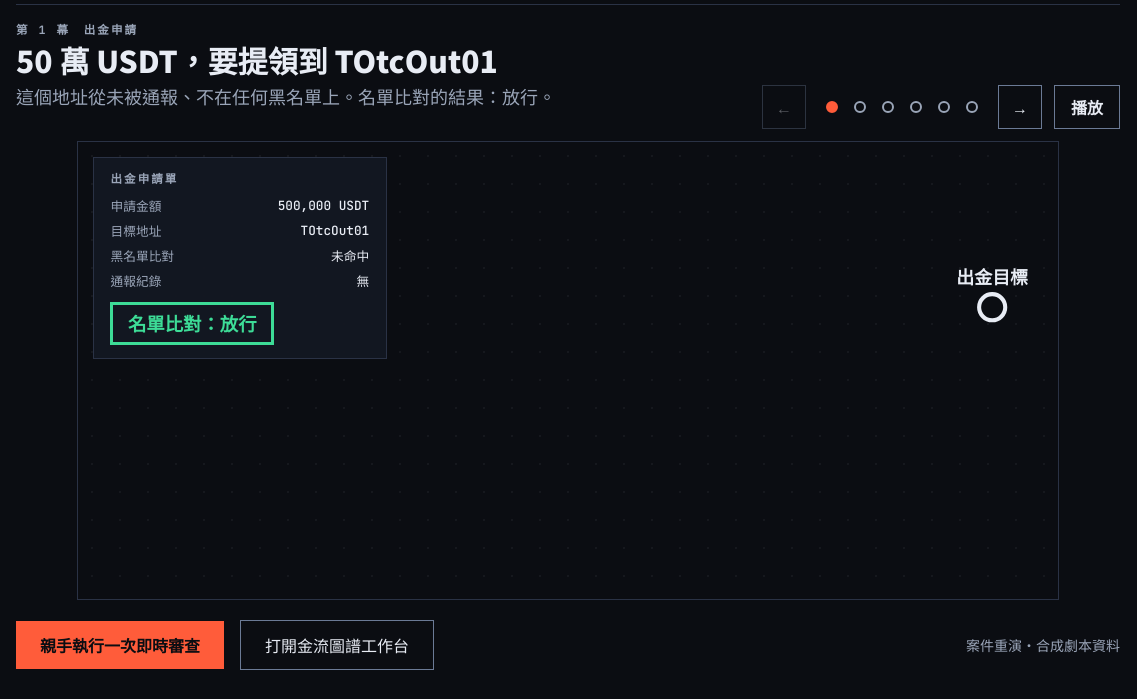
it: CaseReplay › 可逐幕前進，最後一幕給出暫緩出金並可重播
This screenshot has width=1137, height=699.
What coordinates should you click on to do the following:
click the button named "下一幕"
I would click on:
 (1020, 107)
Its box is [998,85,1042,129].
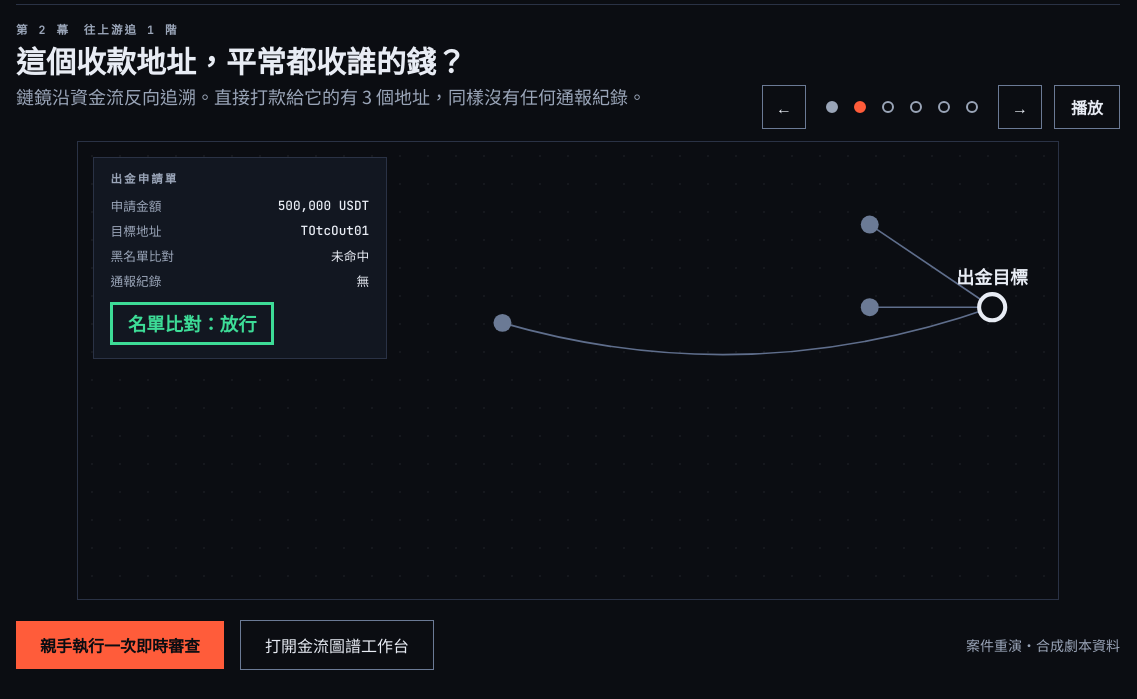
What coordinates should you click on to do the following:
click the button named "下一幕"
I would click on:
 (1020, 107)
Its box is [998,85,1042,129].
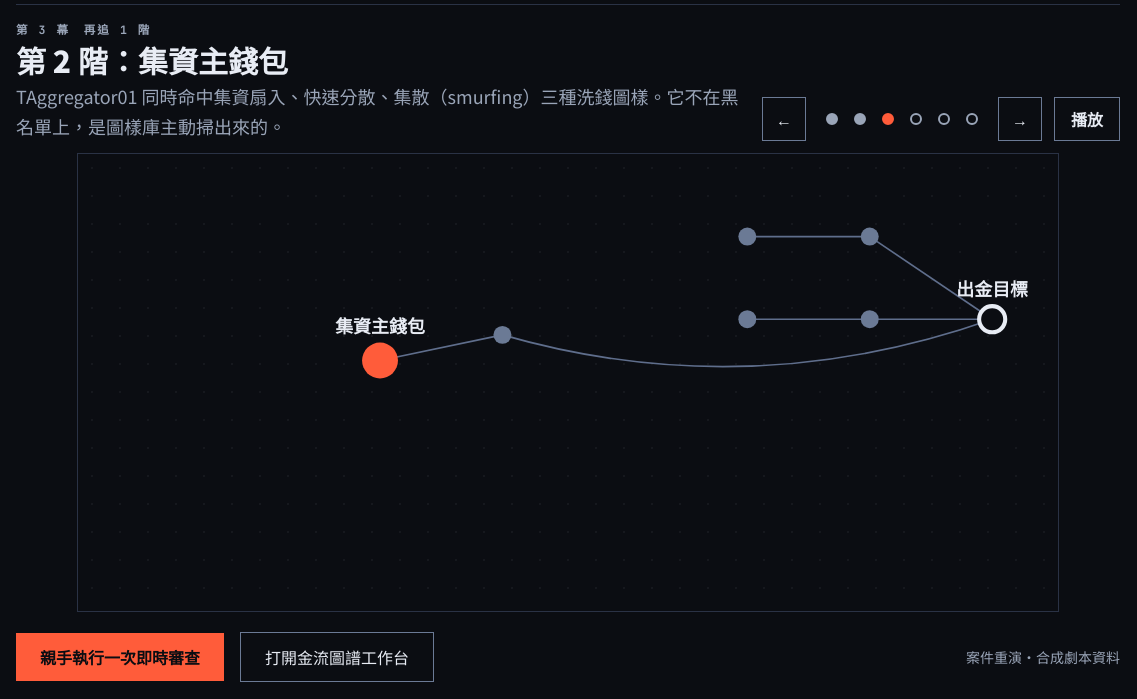
What coordinates should you click on to do the following:
click the button named "下一幕"
I would click on:
 (1020, 119)
Its box is [998,97,1042,141].
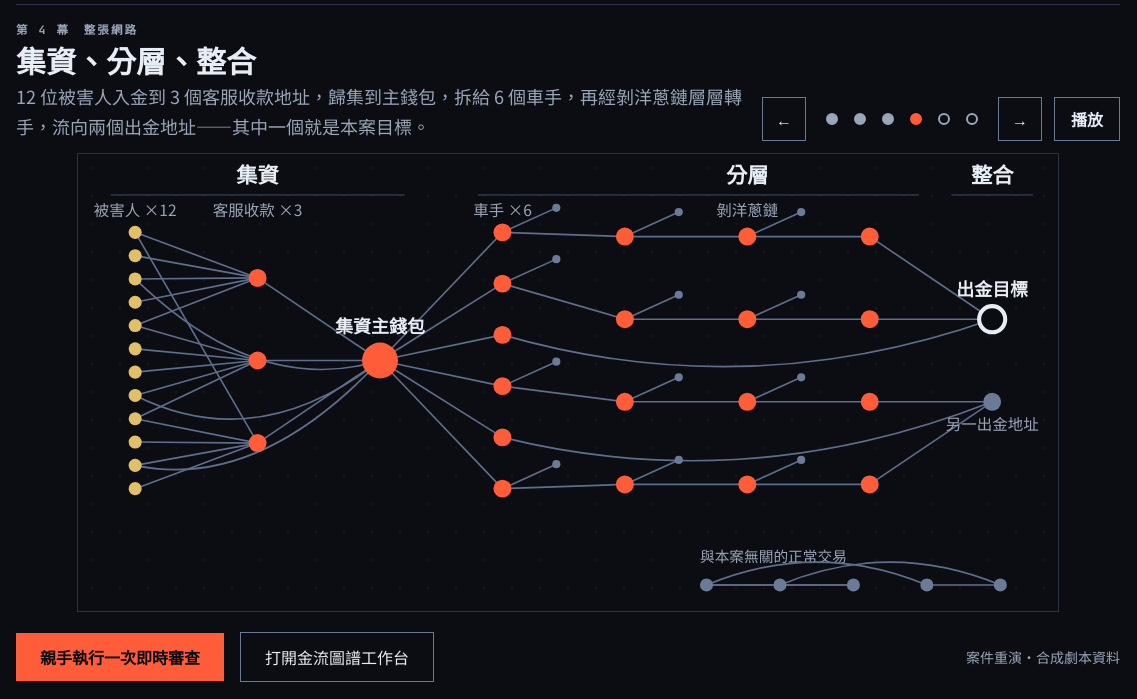
What coordinates should you click on to do the following:
click the button named "下一幕"
I would click on:
 (1020, 119)
Its box is [998,97,1042,141].
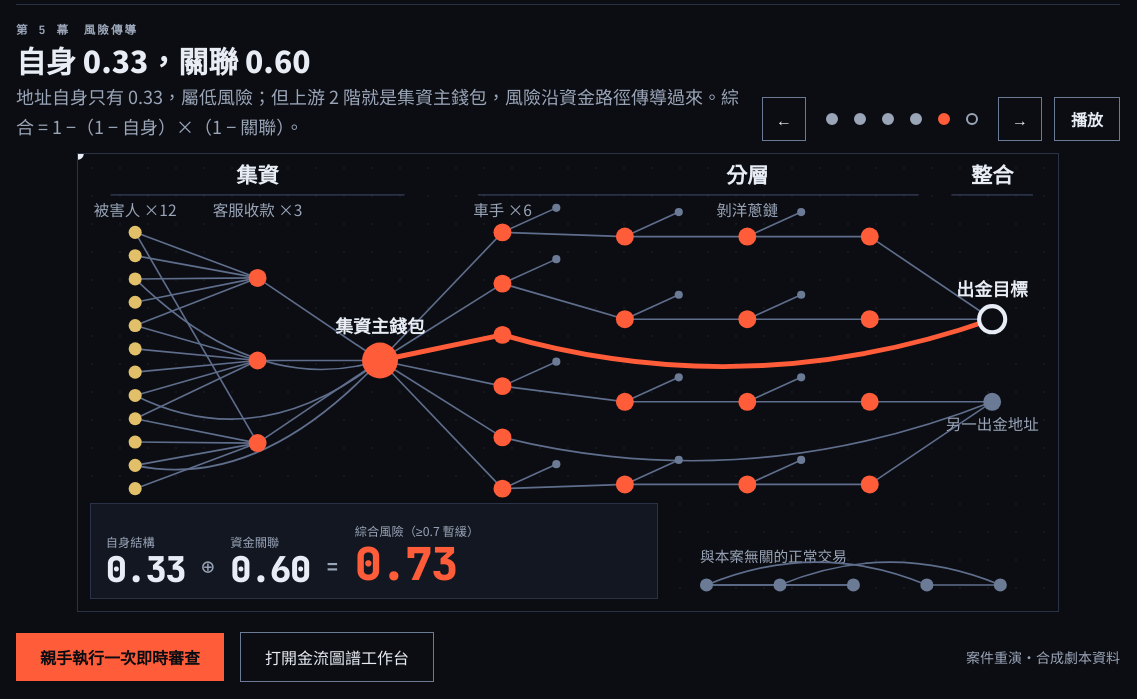
What coordinates should you click on to do the following:
click the button named "下一幕"
I would click on:
 (1020, 119)
Its box is [998,97,1042,141].
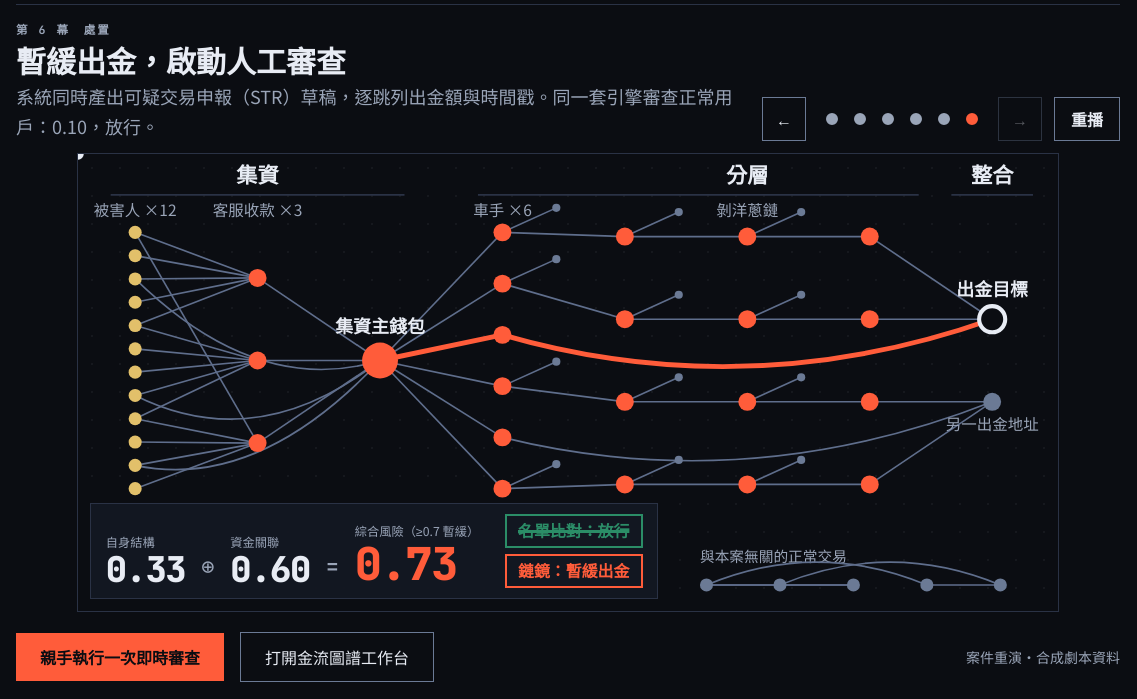
Check: the text "暫緩出金，啟動人工審查" is shown, box [16,38,346,82]
Check: the button "重播" is shown, box [1054,97,1120,141]
